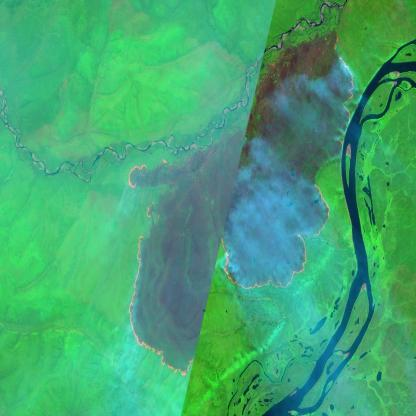fire: (124, 37, 361, 380)
